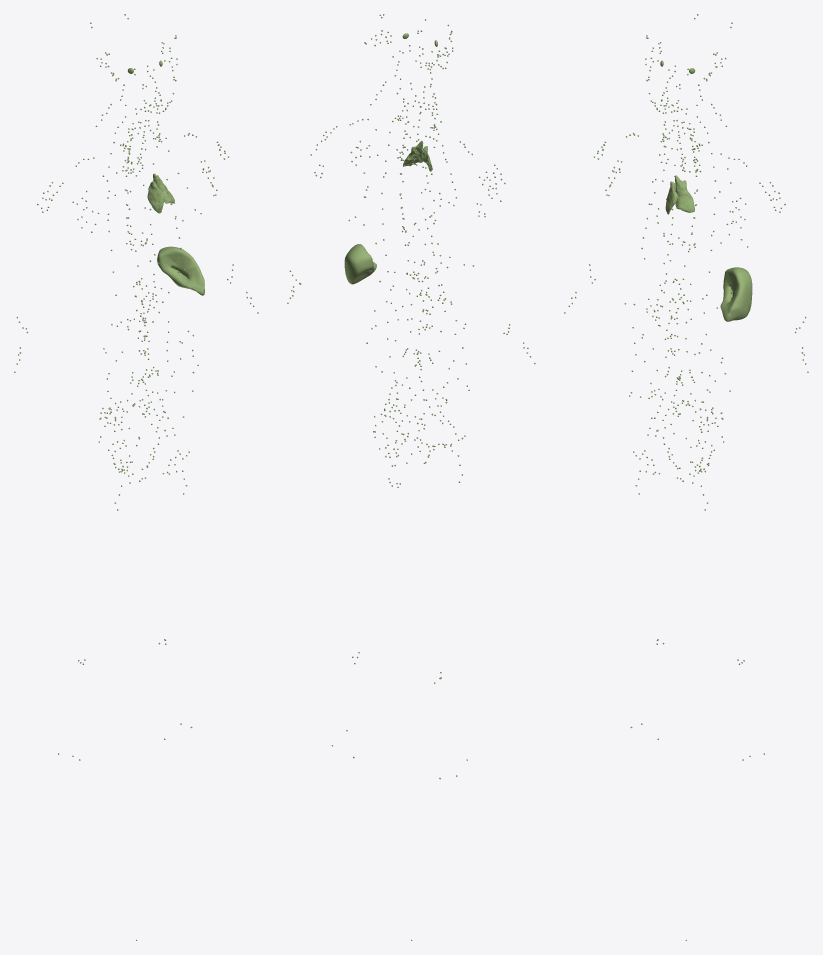
Rendered from male-lymphatic.glb.
The picture shows the model from 3 angles, left to right: view 1: azimuth 30°, elevation 25°; view 2: azimuth 150°, elevation 25°; view 3: azimuth 330°, elevation 25°; orthographic projection.
Visible parts, largest first — view 1: Spleen; view 2: Spleen; view 3: Spleen.
Part boxes in pixels (x1=…): Spleen: x1=157, y1=246, x2=204, y2=295; Spleen: x1=344, y1=244, x2=376, y2=284; Spleen: x1=720, y1=267, x2=752, y2=321.
Size of the model in its own units: 1.45 by 5.1 by 0.6279.
